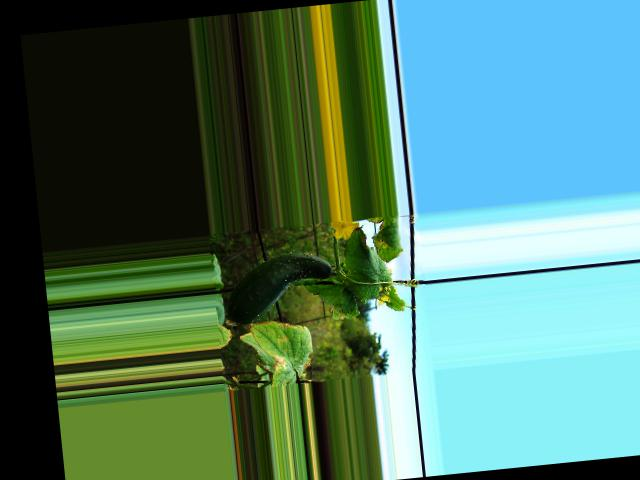cucumber: (222, 249, 338, 327)
